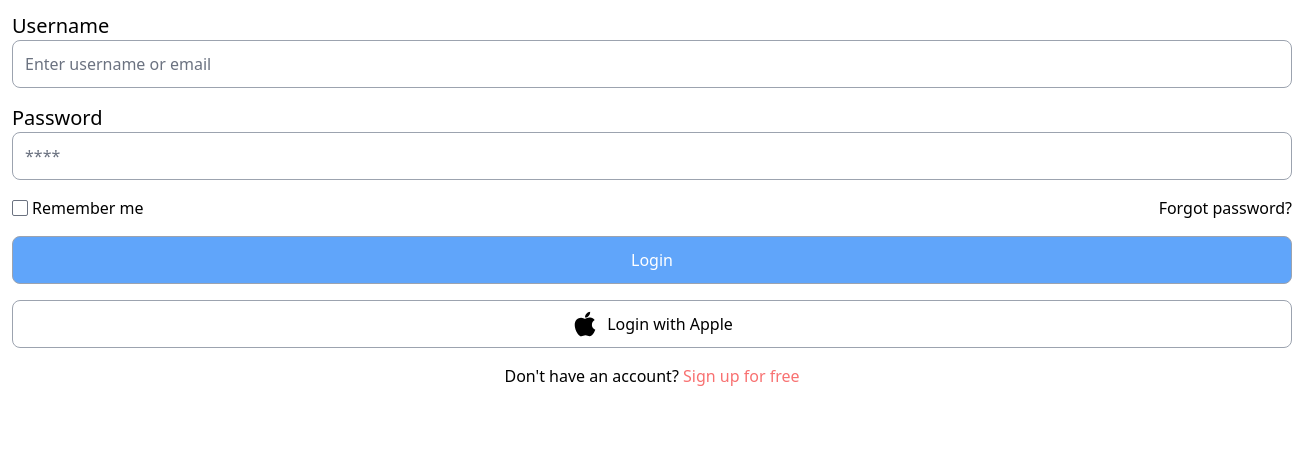
LoginForm › displays validation errors for invalid email and password formats
Type "invalid-email" into the field labelled "Username" at point(652, 64), box [12, 40, 1292, 88]
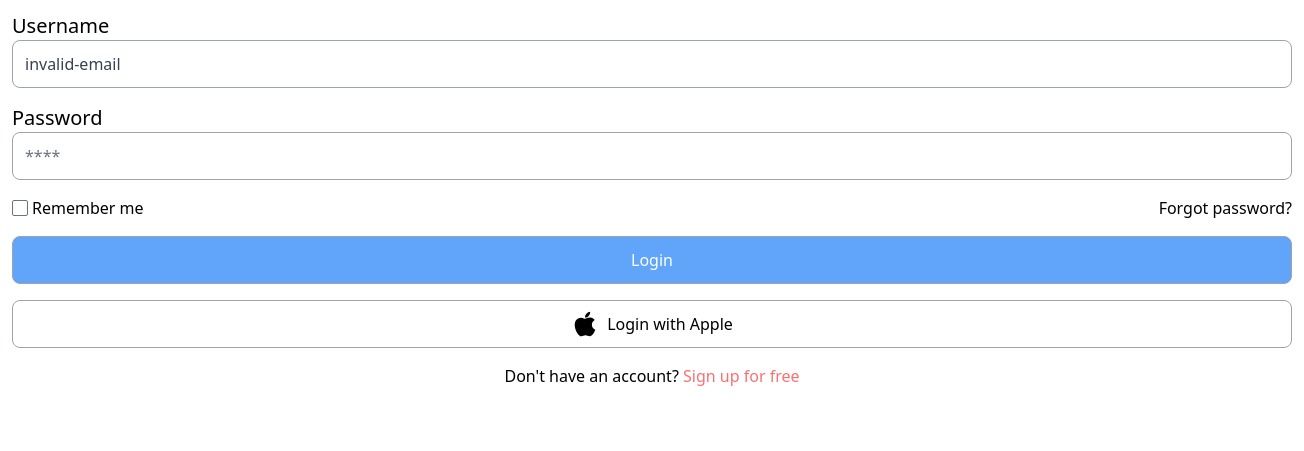
Type "123" into the password field labelled "Password" at point(652, 156), box [12, 132, 1292, 180]
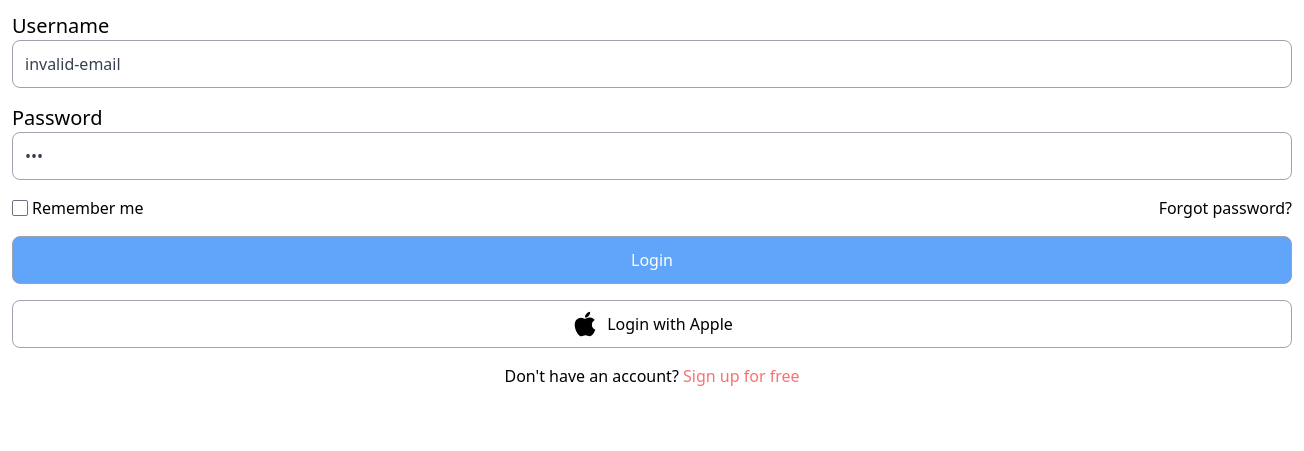
Click the button "Login" at point(652, 260), box [12, 236, 1292, 284]
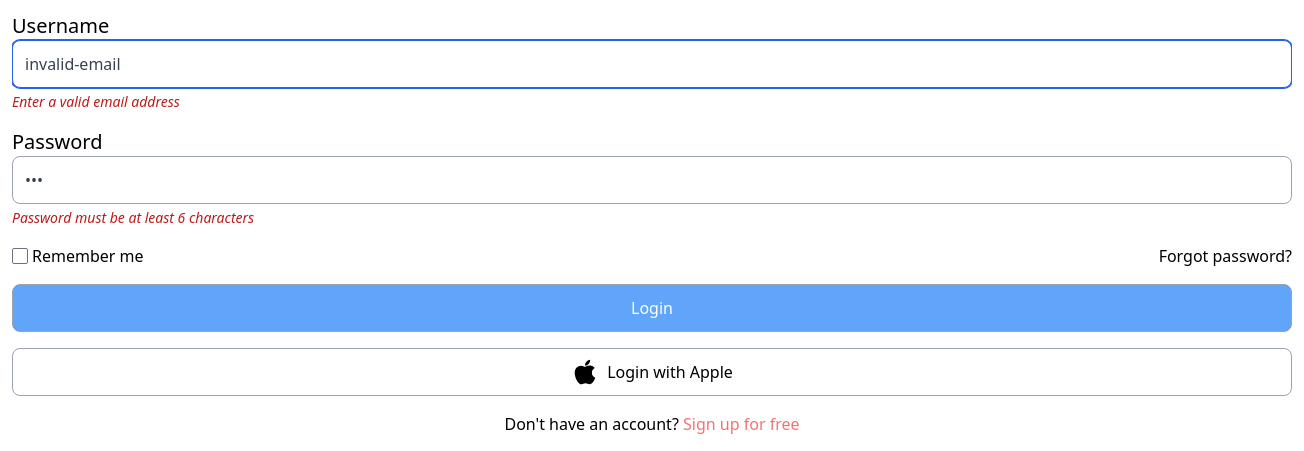
Expected: the text "Enter a valid email address" is shown, [12, 92, 180, 111]
Expected: the text "Password must be at least 6 characters" is shown, [12, 208, 254, 227]
